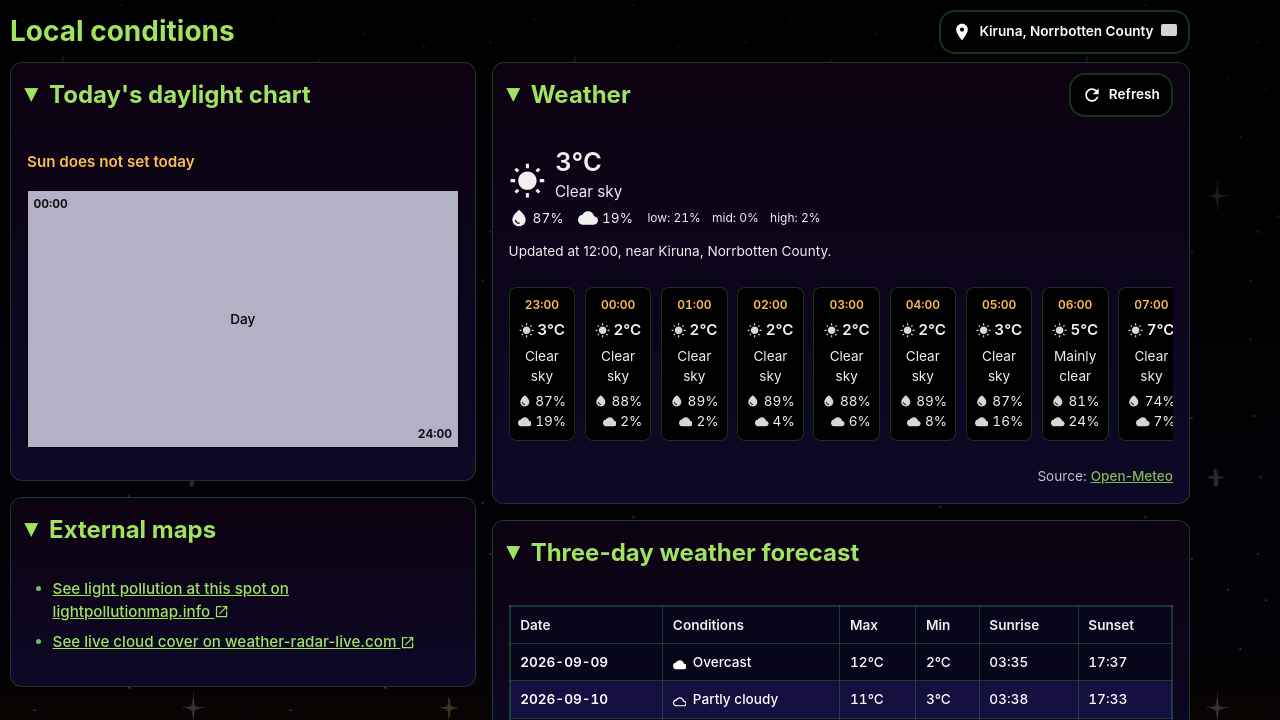
it: Local conditions 3-day split (dashboard-layout ticket 03) › collapses Weather and the Three-day weather forecast independently
Click the button "▸ Weather".
click(581, 94)  # box top-left (509, 63), bottom-right (1061, 127)
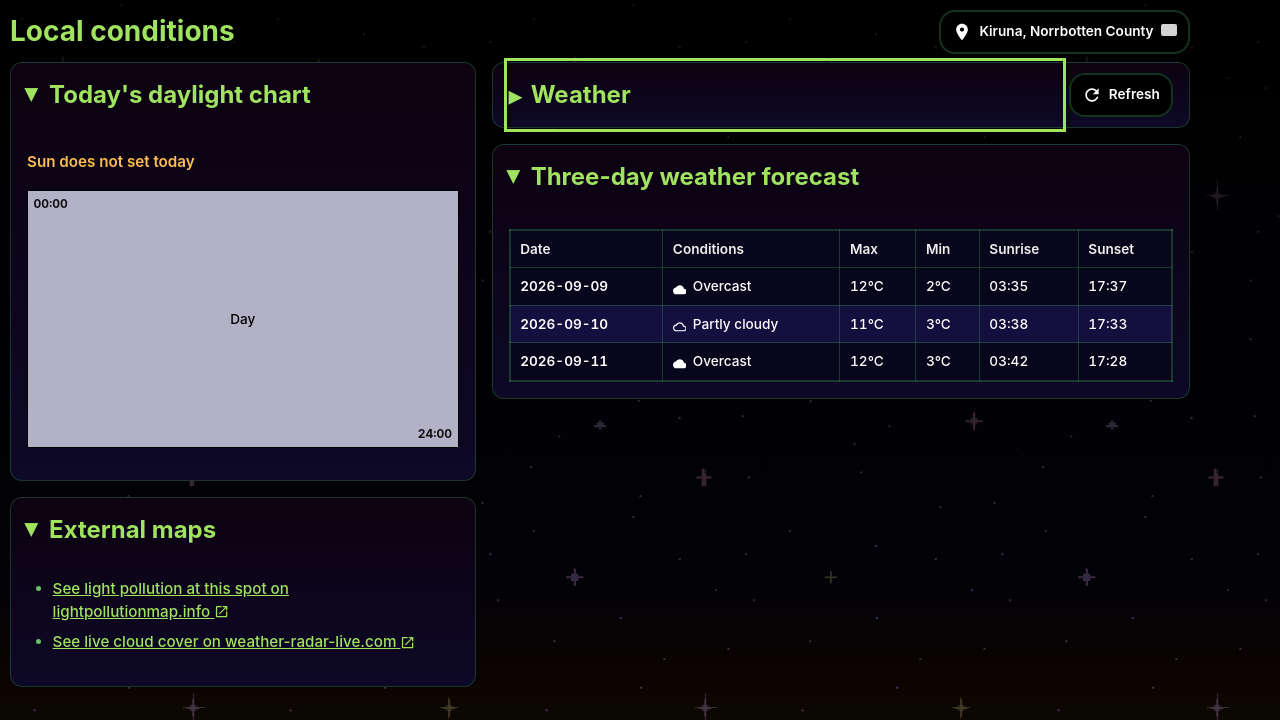
expect the table is shown: met, box top-left (509, 225), bottom-right (1173, 382)
expect the button "▸ Weather" is collapsed: met, box top-left (509, 63), bottom-right (1061, 127)
Click the button "▸ Three-day weather forecast".
click(841, 177)  # box top-left (509, 145), bottom-right (1173, 209)
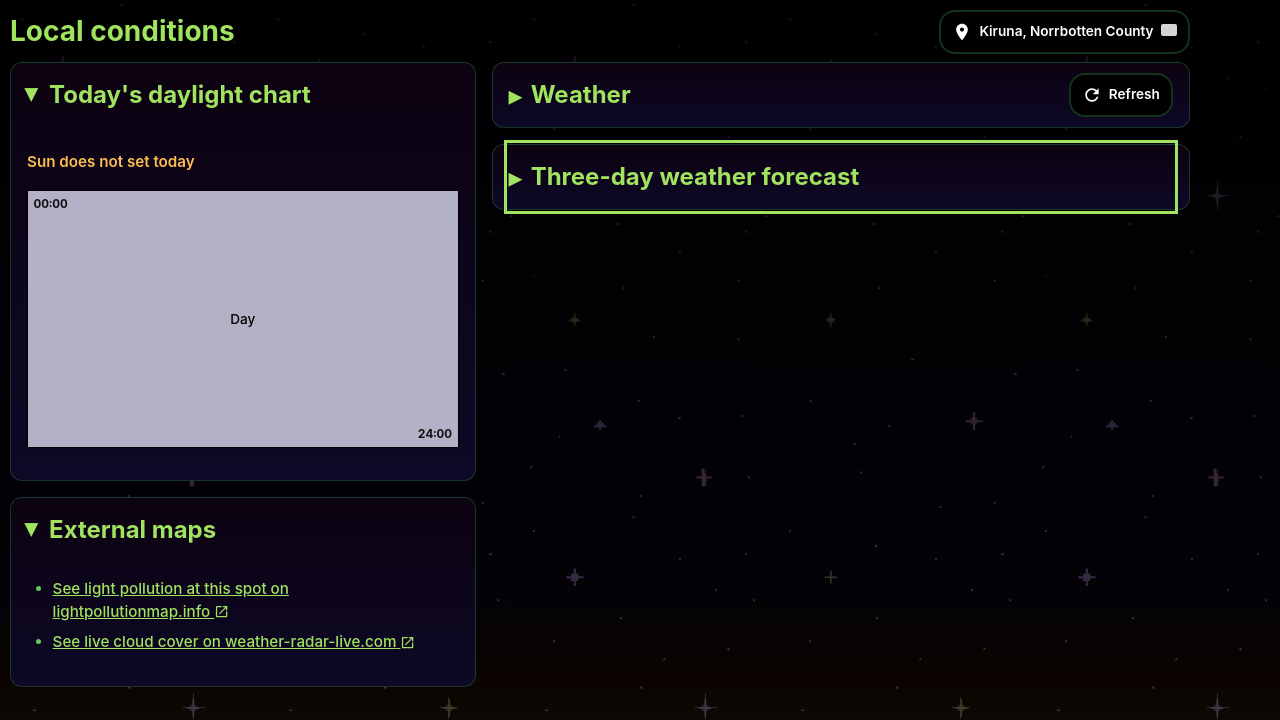
expect the button "▸ Three-day weather forecast" is collapsed: met, box top-left (509, 145), bottom-right (1173, 209)
expect the table is gone: met
Click the button "▸ Weather".
click(581, 94)  # box top-left (509, 63), bottom-right (1061, 127)
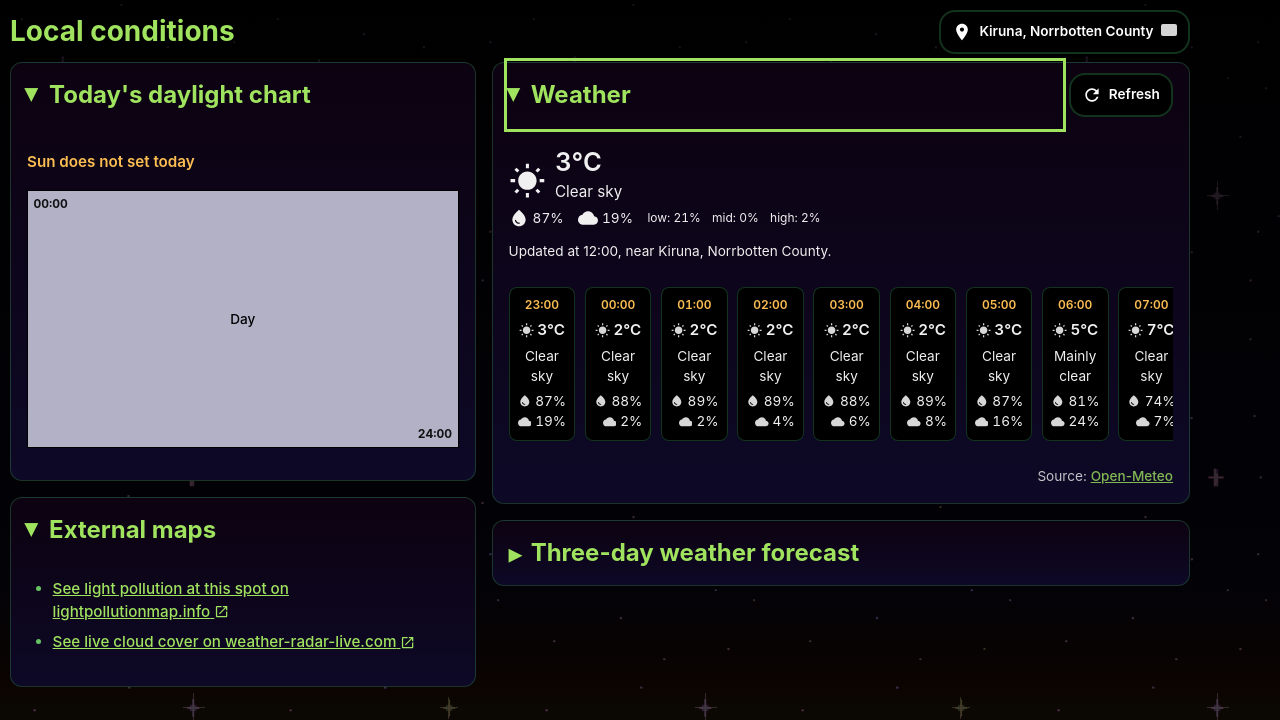
expect the button "▸ Weather" is expanded: met, box top-left (509, 63), bottom-right (1061, 127)
